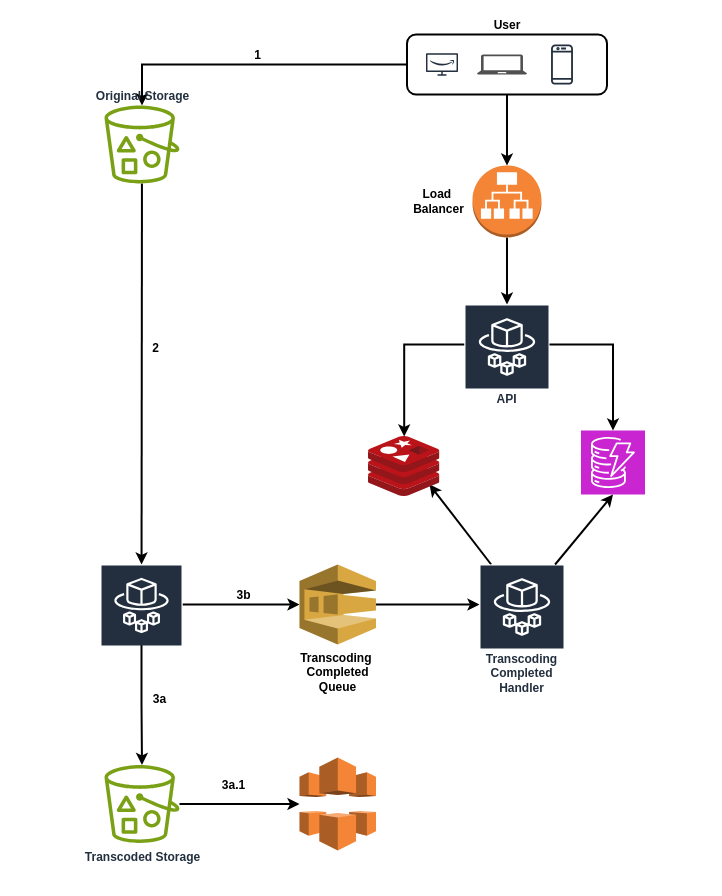
Image size: 722x896. Some labels were removed from this diagram. Here are the shapes that lost their labels. From the top down, the centre of each, then its label:
At point (403, 466): "Metadata Cache".
At point (612, 462): "Metadata DB".
At point (141, 604): "Transcoding Service".
At point (337, 803): "CDN".
